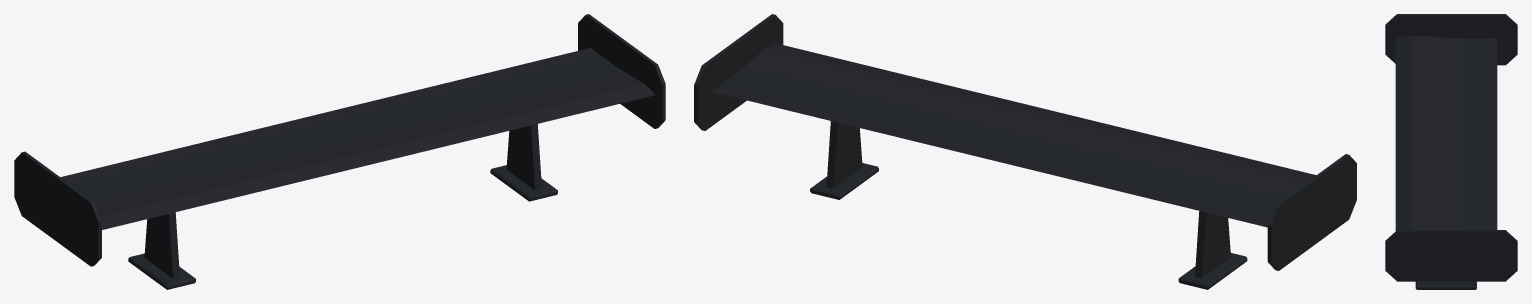
File: vortex_r.glb
The picture shows the model from 3 angles, left to right: view 1: azimuth 30°, elevation 25°; view 2: azimuth 150°, elevation 25°; view 3: azimuth 270°, elevation 25°; orthographic projection. The views are drawn at different scales.
Visible parts, largest first — view 1: wing_element, model; view 2: wing_element, model; view 3: wing_element, model.
Part boxes in pixels (box(x1,y1,x2,y2)): wing_element: box(14, 14, 665, 266); model: box(128, 124, 557, 289); wing_element: box(694, 14, 1356, 270); model: box(810, 121, 1247, 289); wing_element: box(1385, 14, 1517, 281); model: box(1415, 281, 1476, 289).
Size of the model in its own units: 1.32 by 0.2612 by 0.338.
Materials: 1 (1 with a texture image).
